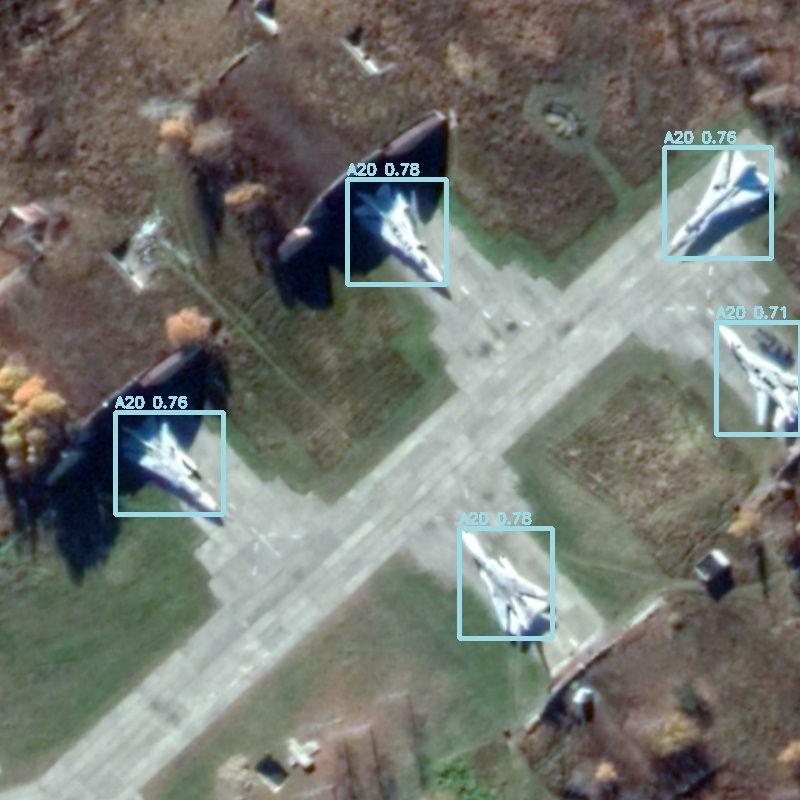A20: (664, 147, 771, 258), (115, 412, 223, 514), (347, 179, 446, 284), (459, 528, 552, 638), (716, 322, 800, 434)
